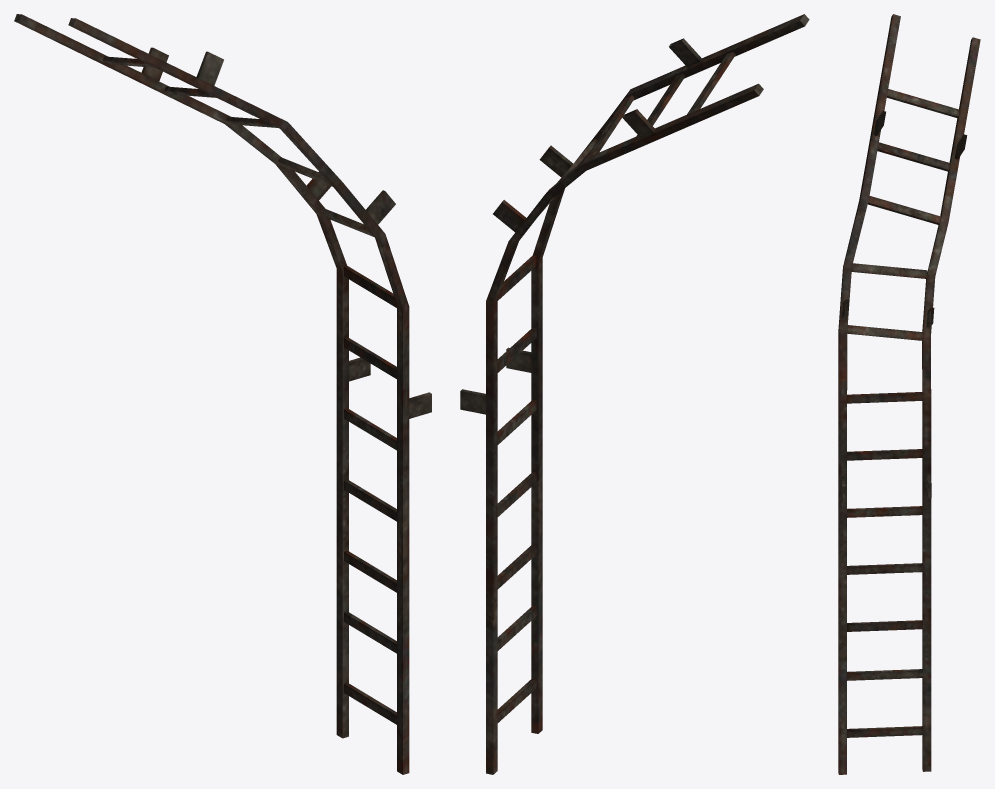
Rendered from BrokenLadder.FBX.
3 views of the same model, side by side, from view 1: azimuth 30°, elevation 25°; view 2: azimuth 150°, elevation 25°; view 3: azimuth 270°, elevation 25° (orthographic). The views are drawn at different scales.
Visible parts, largest first — view 1: BrokenLadder; view 2: BrokenLadder; view 3: BrokenLadder.
Part boxes in pixels (x1,y1,x2,y2): BrokenLadder: (14, 14, 431, 774); BrokenLadder: (460, 14, 809, 774); BrokenLadder: (838, 14, 980, 774).
Size of the model in its own units: 252 by 581 by 116.
